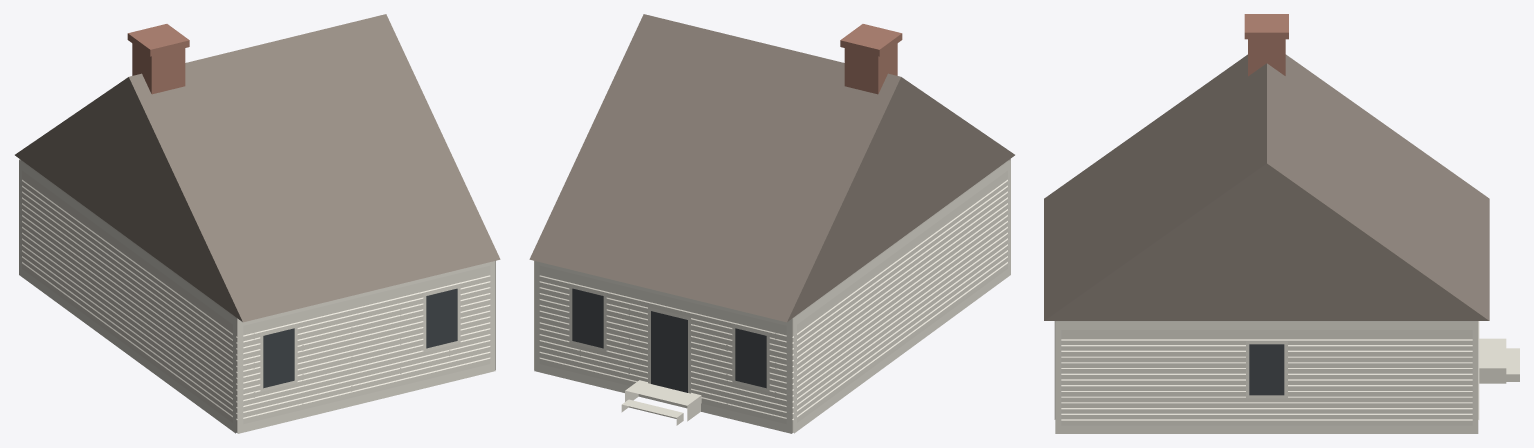
Rendered from recon_1835_blk_randolph_clinton_d5_01__inferred_1835.glb.
The picture shows the model from 3 angles, left to right: view 1: azimuth 30°, elevation 25°; view 2: azimuth 150°, elevation 25°; view 3: azimuth 270°, elevation 25°; orthographic projection. The views are drawn at different scales.
Parts seen in each view (by area): view 1: recon_1835_blk_randolph_clinton_d5_01__inferred_1835; view 2: recon_1835_blk_randolph_clinton_d5_01__inferred_1835; view 3: recon_1835_blk_randolph_clinton_d5_01__inferred_1835.
Part boxes in pixels (<box>): recon_1835_blk_randolph_clinton_d5_01__inferred_1835: <box>15,14,500,433</box>; recon_1835_blk_randolph_clinton_d5_01__inferred_1835: <box>529,14,1014,433</box>; recon_1835_blk_randolph_clinton_d5_01__inferred_1835: <box>1044,14,1519,433</box>.
Bounding box in the file's own units: 6.51 × 7.39 × 10.55.
